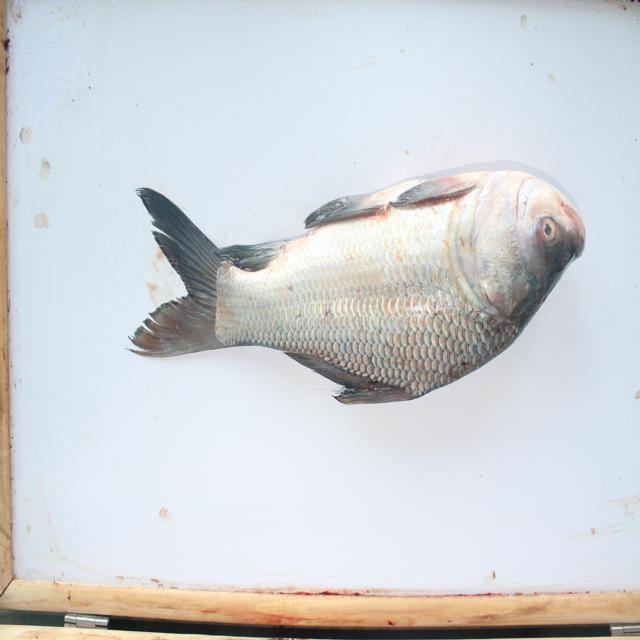Catla: (124, 159, 593, 403)
